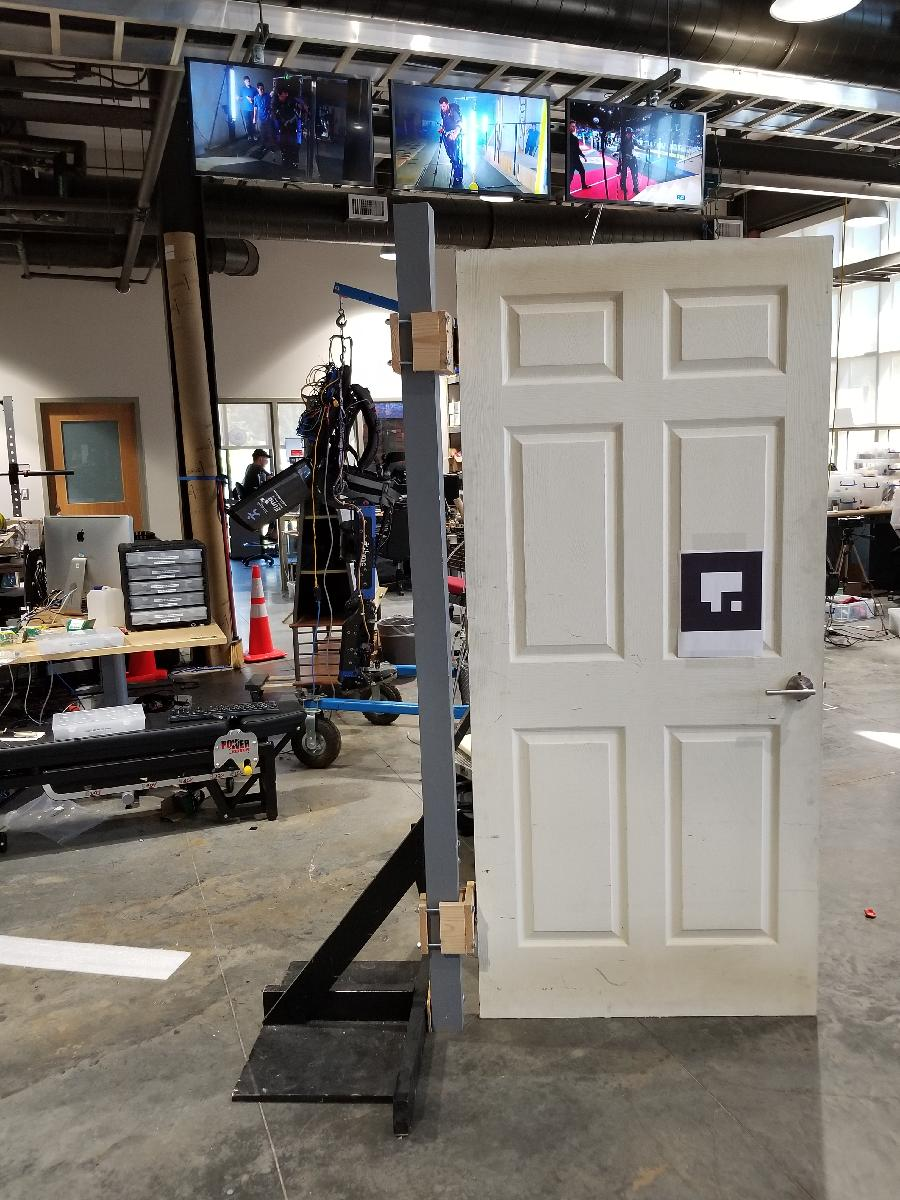door: (451, 231, 838, 1023)
doorHandle: (759, 670, 824, 707)
